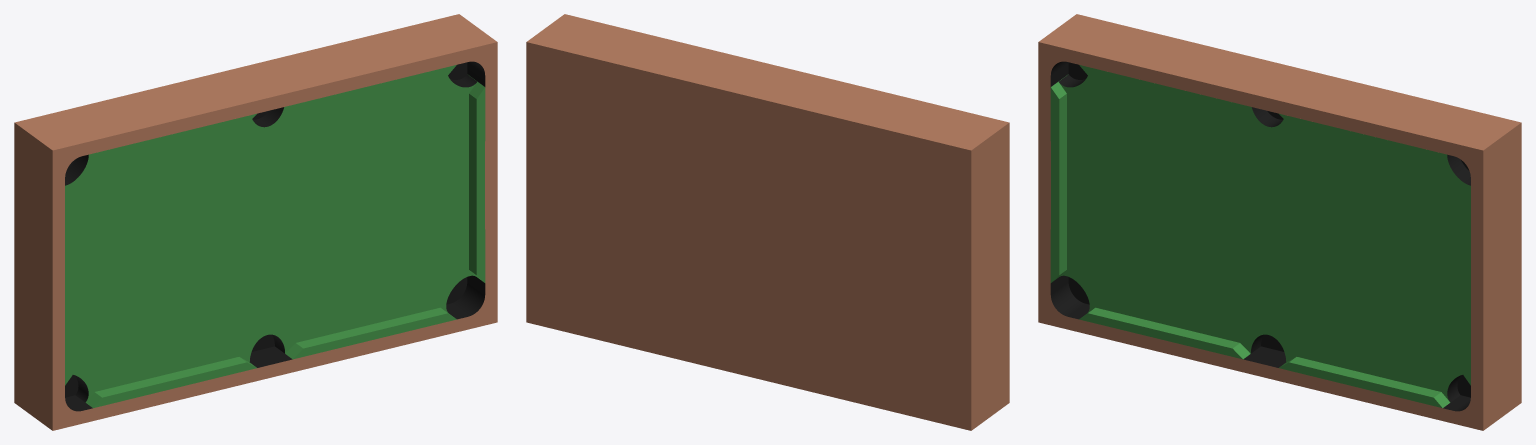
Rendered from billiard.obj.
The picture shows the model from 3 angles, left to right: view 1: azimuth 30°, elevation 25°; view 2: azimuth 150°, elevation 25°; view 3: azimuth 330°, elevation 25°; orthographic projection.
Visible parts, largest first — view 1: Corpo51; view 2: Corpo51; view 3: Corpo51.
Boxes of the visible parts, x1,y1,x2,y2 form: Corpo51: (14,14,497,430); Corpo51: (526,14,1009,430); Corpo51: (1038,14,1521,430).
Bounding box in the file's own units: 503 × 303 × 75.01.
